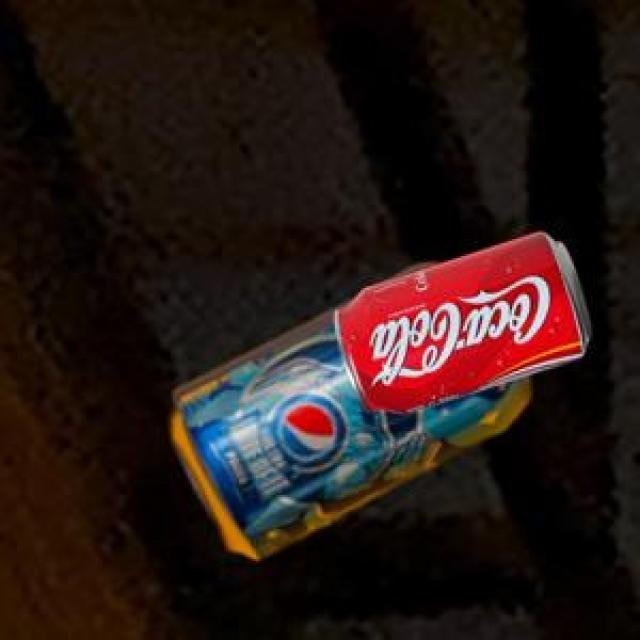Can: (170, 261, 526, 556), (332, 229, 588, 411)
